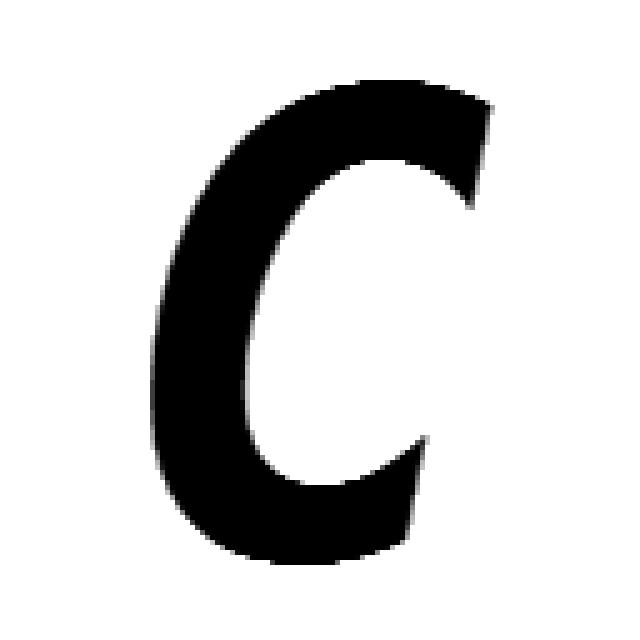C: (150, 80, 495, 565)
